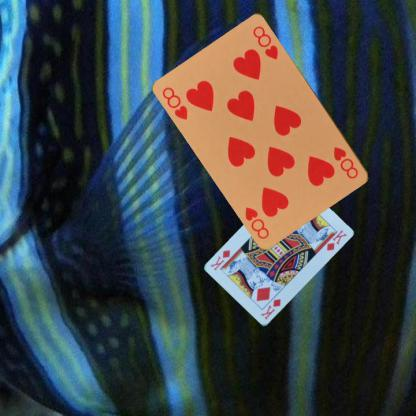8h: (160, 84, 190, 122), (331, 144, 360, 180)
Kd: (258, 297, 282, 322)
